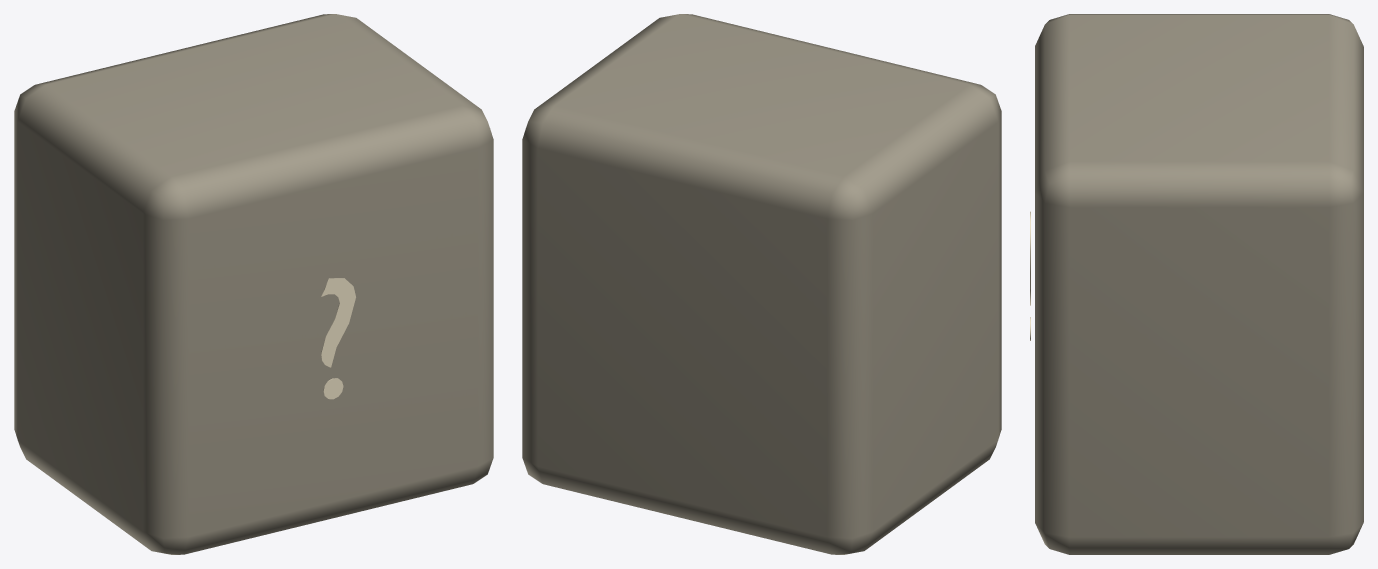
File: SM_Puzzle_LogicBlock_03.fbx
3 renders of one model, left to right at view 1: azimuth 30°, elevation 25°; view 2: azimuth 150°, elevation 25°; view 3: azimuth 270°, elevation 25°, orthographic. The views are drawn at different scales.
Parts seen in each view (by area): view 1: Logic_block.002, Logic_symbol.002; view 2: Logic_block.002; view 3: Logic_block.002.
Boxes of the visible parts, left/top/right/bottom form: Logic_block.002: left=14, top=14, right=493, bottom=554; Logic_symbol.002: left=321, top=278, right=355, bottom=399; Logic_block.002: left=522, top=14, right=1001, bottom=554; Logic_block.002: left=1035, top=14, right=1363, bottom=554.
Size of what is drawn, in the model's own units: 48 by 38.54 by 50.
